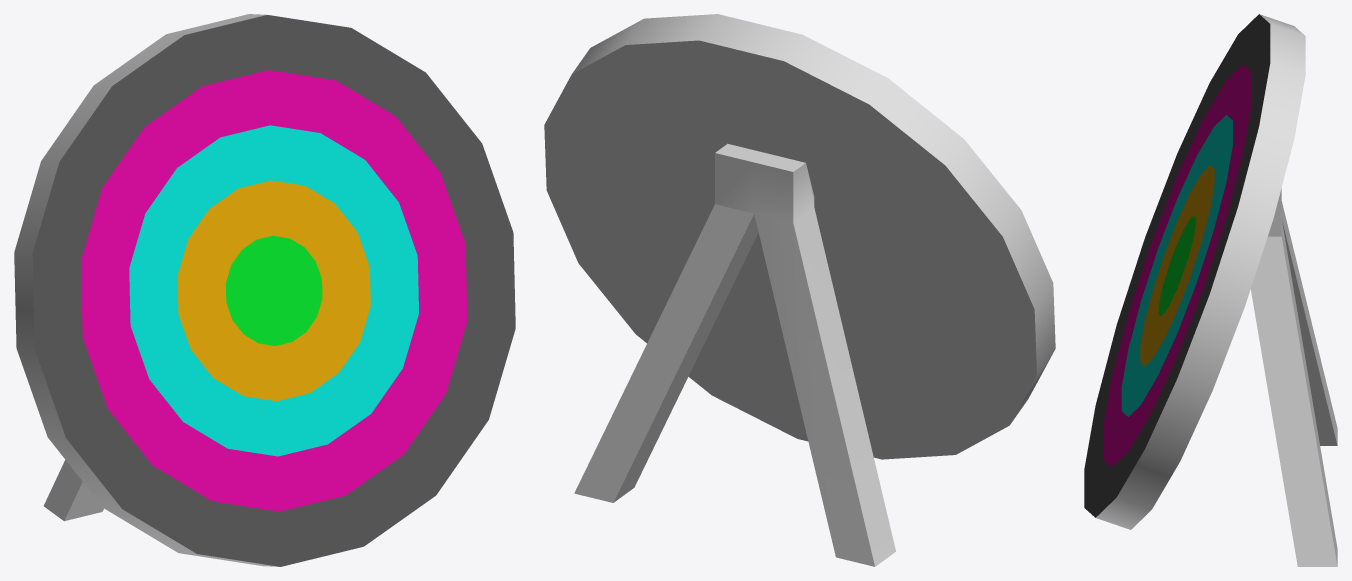
Rendered from standingTarget.fbx.
The picture shows the model from 3 angles, left to right: view 1: azimuth 30°, elevation 25°; view 2: azimuth 150°, elevation 25°; view 3: azimuth 270°, elevation 25°; orthographic projection. The views are drawn at different scales.
Parts seen in each view (by area): view 1: standingTarget; view 2: standingTarget; view 3: standingTarget.
Part boxes in pixels (<box>): standingTarget: <box>14,14,515,566</box>; standingTarget: <box>544,14,1055,566</box>; standingTarget: <box>1084,14,1337,566</box>.
Size of the model in its own units: 2 by 1.89 by 0.9498.
